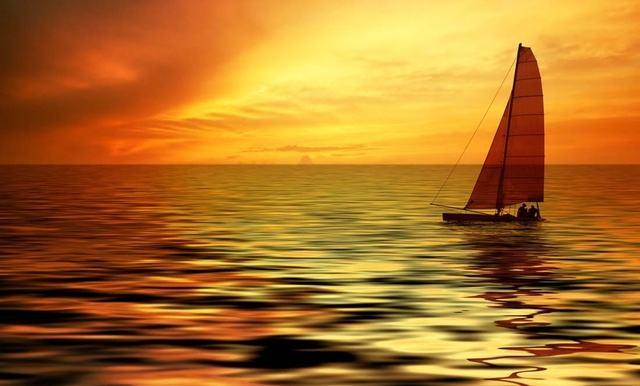fanchuan: (427, 40, 549, 223)
